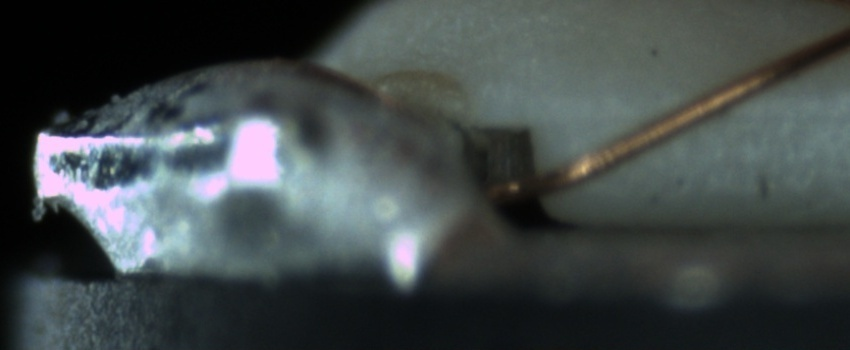DL: (610, 79, 849, 147)
